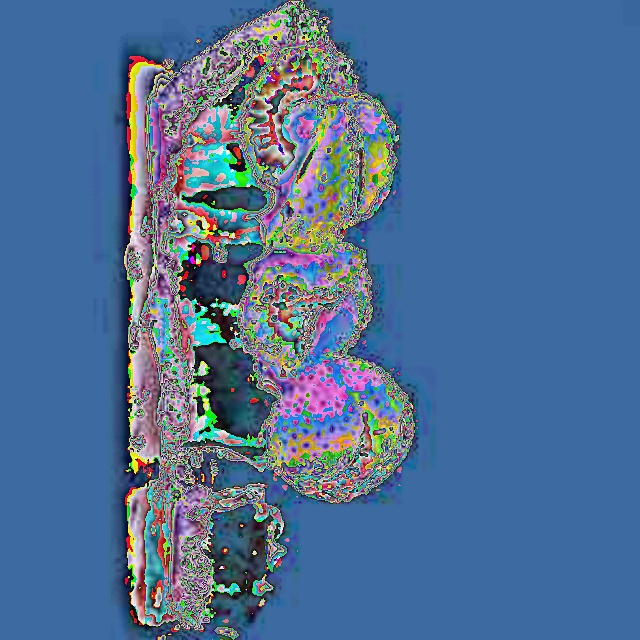background: (128, 0, 418, 506), (133, 175, 290, 637)
